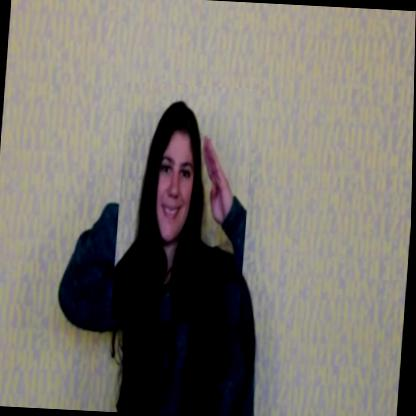Hello: (111, 82, 256, 325)
